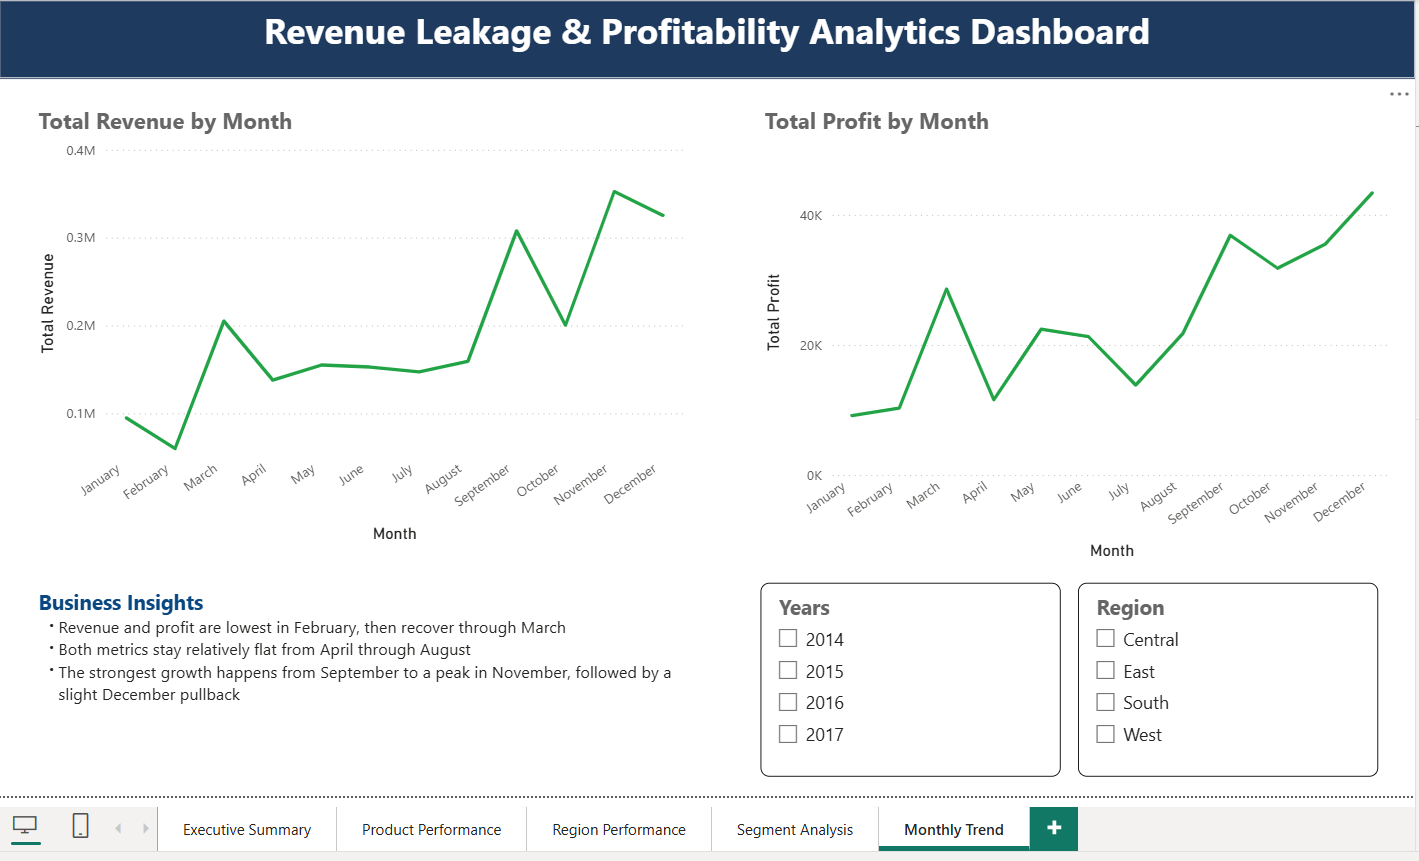

This screenshot's page, from the dashboard's own definition file:
{"tool":"powerbi","page":{"name":"Monthly Trend","canvas":[1280,720],"ordinal":4},"visuals":[{"type":"lineChart","fields":{"Category":["Sheet1.Month"],"Y":["Sheet1.Total Revenue"]},"box":[32,96,592,400],"z":0},{"type":"lineChart","fields":{"Category":["Sheet1.Month"],"Y":["Sheet1.Total Profit"]},"box":[688,96,576,416],"z":1000},{"type":"slicer","fields":{"Values":["Sheet1.Region"]},"box":[975.8,527,271.5,174.9],"z":2000},{"type":"slicer","fields":{"Values":["Sheet1.Years"]},"box":[688.5,527,271.5,174.9],"z":3000},{"type":"textbox","box":[1.1,1,1278.9,71.4],"z":4000},{"type":"textbox","box":[31.8,527,591.9,174.9],"z":5000}]}

Visuals, with their boxes on the page's 1280x720 design canvas (x1, y1, x2, y2). These are canvas units, not pixel positions in the 1419x861 screenshot, which may show the page scaled, cropped or inside an application window:
lineChart - Sheet1.Month x Sheet1.Total Revenue: [left=32, top=96, right=624, bottom=496]
lineChart - Sheet1.Month x Sheet1.Total Profit: [left=688, top=96, right=1264, bottom=512]
slicer - Sheet1.Region: [left=976, top=527, right=1247, bottom=702]
slicer - Sheet1.Years: [left=688, top=527, right=960, bottom=702]
textbox: [left=1, top=1, right=1280, bottom=72]
textbox: [left=32, top=527, right=624, bottom=702]
